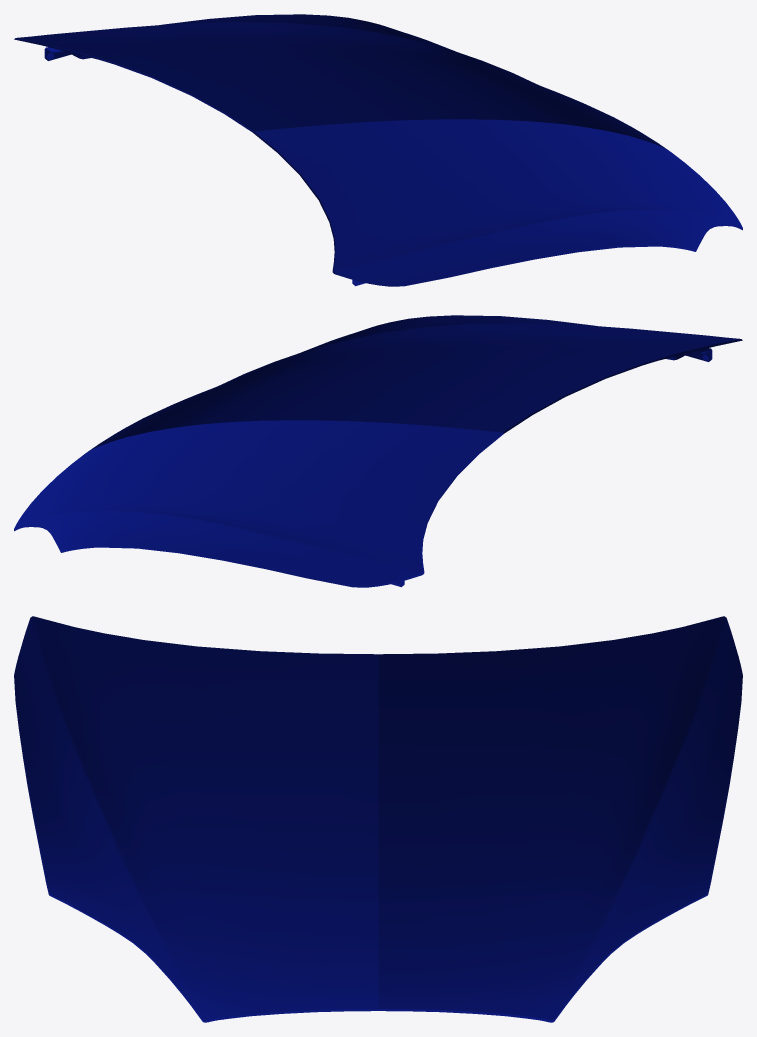
File: Hood_Original.obj
3 views of the same model, one above another, from view 1: azimuth 30°, elevation 25°; view 2: azimuth 150°, elevation 25°; view 3: azimuth 270°, elevation 25° (orthographic). The views are drawn at different scales.
Visible parts, largest first — view 1: Hood_Original; view 2: Hood_Original; view 3: Hood_Original.
Part boxes in pixels (<box>): Hood_Original: <box>14,14,742,286</box>; Hood_Original: <box>14,315,742,587</box>; Hood_Original: <box>14,616,742,1022</box>.
Bounding box in the file's own units: 1.39 × 0.3732 × 1.63.
